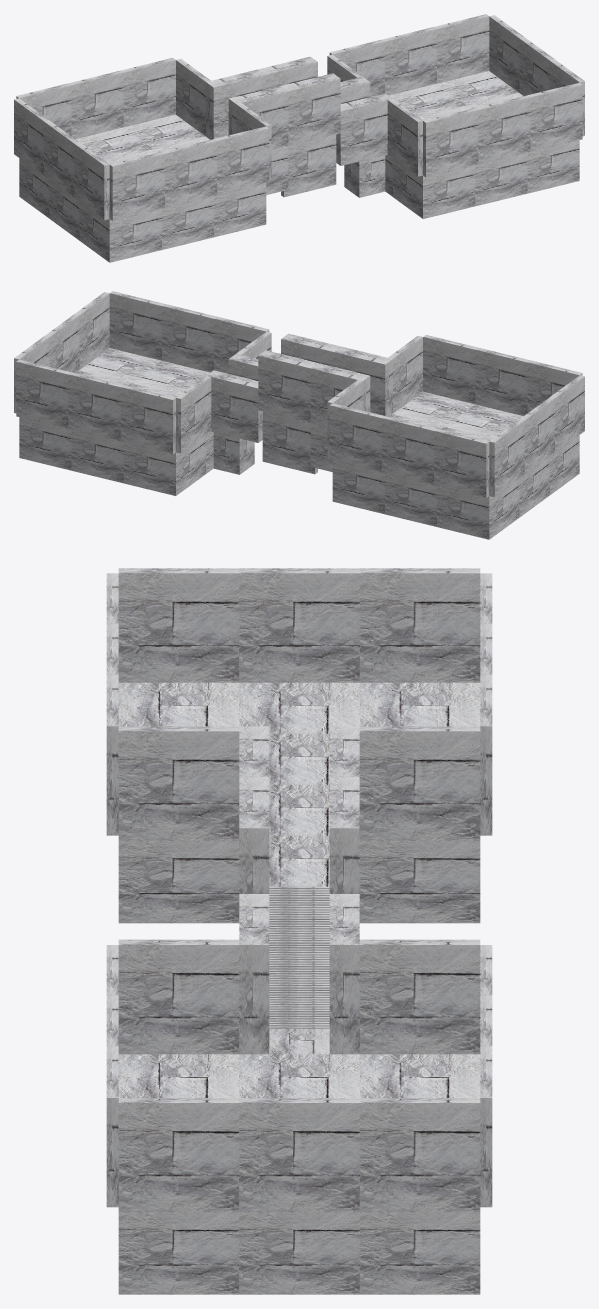
The model's file is RPG_Start.fbx.
3 views of the same model, one above another, from view 1: azimuth 30°, elevation 25°; view 2: azimuth 150°, elevation 25°; view 3: azimuth 270°, elevation 25° (orthographic). The views are drawn at different scales.
Visible parts, largest first — view 1: Box717, Box533, Box707, Box729, Box538, Box639, Box537, Box541, Box723, Box724, Box730, Box719 (+31 smaller); view 2: Box718, Box531, Box706, Box728, Box543, Box638, Box542, Box730, Box719, Box541, Box721, Box723 (+31 smaller); view 3: Box544, Box546, Box720, Box725, Box726, Box727, Box536, Box547, Box548, Box722, Box711, Box712 (+23 smaller).
Part boxes in pixels (x1,y1,x2,y2): Box717: [79, 202, 161, 262]; Box533: [393, 159, 475, 218]; Box707: [281, 73, 340, 145]; Box729: [109, 151, 164, 221]; Box538: [423, 108, 478, 177]; Box639: [336, 93, 392, 165]; Box537: [475, 95, 530, 164]; Box541: [434, 14, 489, 83]; Box723: [214, 126, 269, 195]; Box724: [162, 139, 217, 208]; Box730: [528, 82, 582, 151]; Box719: [121, 58, 175, 127]; Box718: [437, 479, 519, 539]; Box531: [123, 436, 205, 495]; Box706: [258, 350, 317, 422]; Box728: [434, 428, 489, 498]; Box543: [120, 385, 175, 454]; Box638: [206, 370, 262, 442]; Box542: [68, 372, 123, 441]; Box730: [109, 291, 164, 360]; Box719: [329, 403, 384, 472]; Box541: [16, 359, 70, 428]; Box721: [381, 416, 436, 485]; Box723: [423, 335, 477, 404]; Box544: [359, 939, 480, 1054]; Box546: [118, 939, 239, 1054]; Box720: [359, 568, 480, 682]; Box725: [359, 726, 480, 840]; Box726: [118, 726, 239, 840]; Box727: [118, 568, 239, 682]; Box536: [118, 1098, 239, 1212]; Box547: [359, 1098, 480, 1212]; Box548: [239, 1098, 359, 1212]; Box722: [239, 568, 359, 682]; Box711: [118, 840, 239, 923]; Box712: [359, 840, 480, 923].
Bounding box in the file's own units: 9200 × 2400 × 3200.
